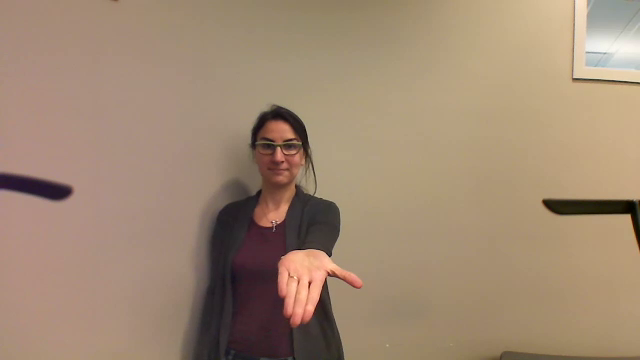land: (263, 241, 375, 328)
